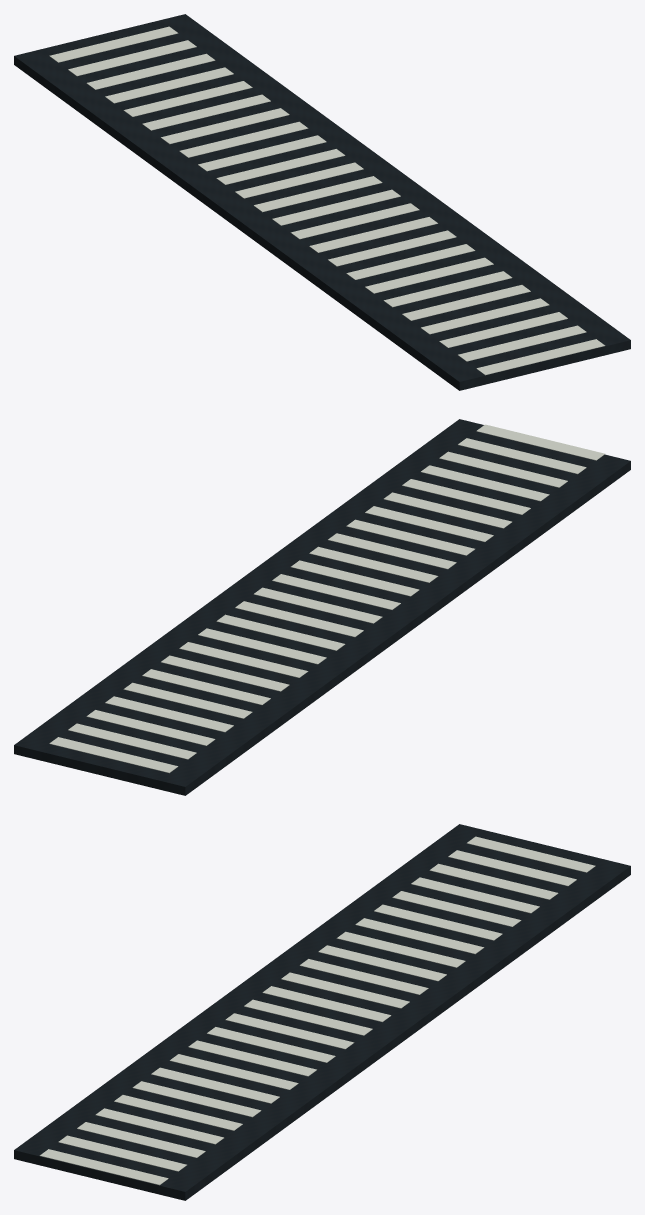
Rendered from Transit_Road_6L_Crosswalk_4m.glb.
The picture shows the model from 3 angles, top to bottom: view 1: azimuth 30°, elevation 25°; view 2: azimuth 150°, elevation 25°; view 3: azimuth 330°, elevation 25°; orthographic projection.
Visible parts, largest first — view 1: Transit_Road_6L_Crosswalk_4m_Surface, Transit_Road_6L_Crosswalk_4m_MarkCrosswalk; view 2: Transit_Road_6L_Crosswalk_4m_Surface, Transit_Road_6L_Crosswalk_4m_MarkCrosswalk; view 3: Transit_Road_6L_Crosswalk_4m_Surface, Transit_Road_6L_Crosswalk_4m_MarkCrosswalk.
Boxes of the visible parts, left/top/right/bottom form: Transit_Road_6L_Crosswalk_4m_Surface: left=14, top=14, right=630, bottom=390; Transit_Road_6L_Crosswalk_4m_MarkCrosswalk: left=49, top=26, right=605, bottom=375; Transit_Road_6L_Crosswalk_4m_Surface: left=14, top=419, right=630, bottom=795; Transit_Road_6L_Crosswalk_4m_MarkCrosswalk: left=49, top=424, right=604, bottom=773; Transit_Road_6L_Crosswalk_4m_Surface: left=14, top=824, right=630, bottom=1200; Transit_Road_6L_Crosswalk_4m_MarkCrosswalk: left=39, top=836, right=595, bottom=1185.
Size of the model in its own units: 4 by 0.219 by 18.
Materials: 2 (1 with a texture image).
